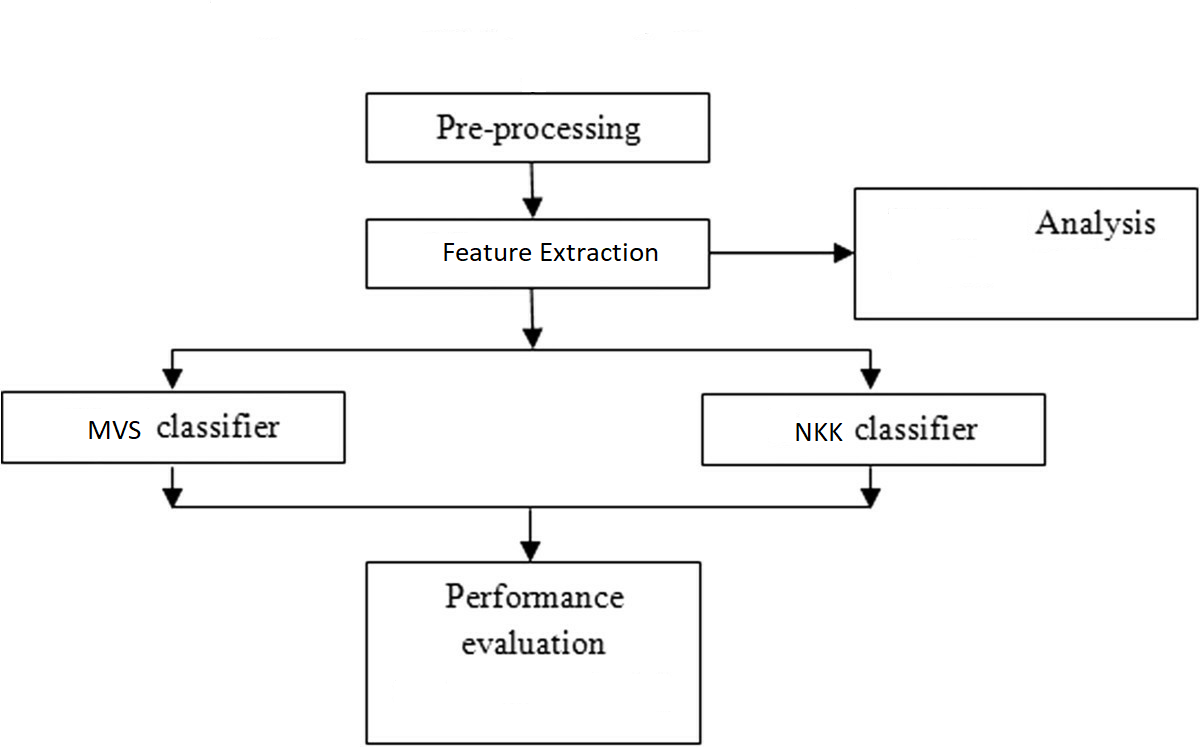arrow: (164, 499, 544, 561), (548, 499, 904, 564), (160, 344, 536, 392), (538, 343, 882, 393), (705, 240, 853, 267), (522, 292, 545, 349), (520, 505, 542, 563), (523, 163, 544, 220), (162, 462, 185, 508), (859, 464, 881, 508)
process: (362, 558, 706, 745), (850, 185, 1200, 324), (1, 386, 346, 468), (363, 88, 711, 169), (697, 390, 1047, 470), (362, 216, 715, 293)
text: (446, 580, 627, 669), (435, 109, 642, 149), (87, 408, 281, 444), (441, 240, 663, 270), (792, 415, 979, 446), (1032, 207, 1159, 245)
